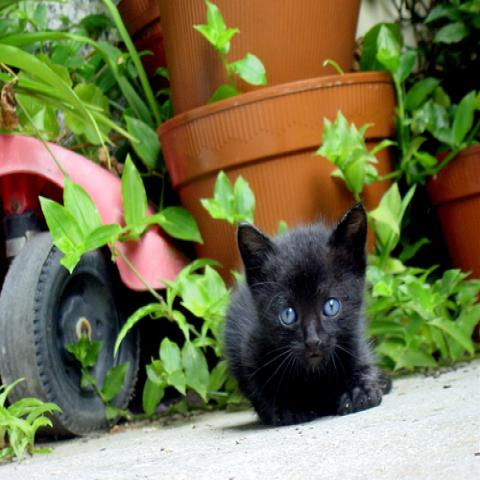motorcycle: (1, 130, 197, 440)
